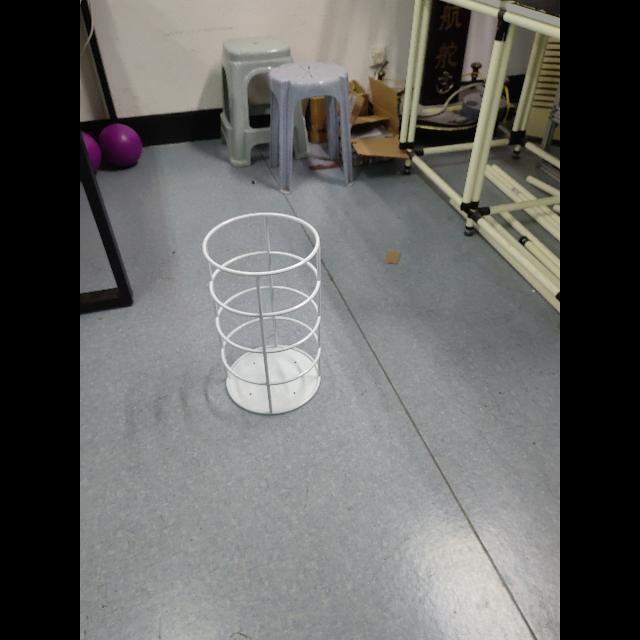S: (200, 210, 328, 418)
